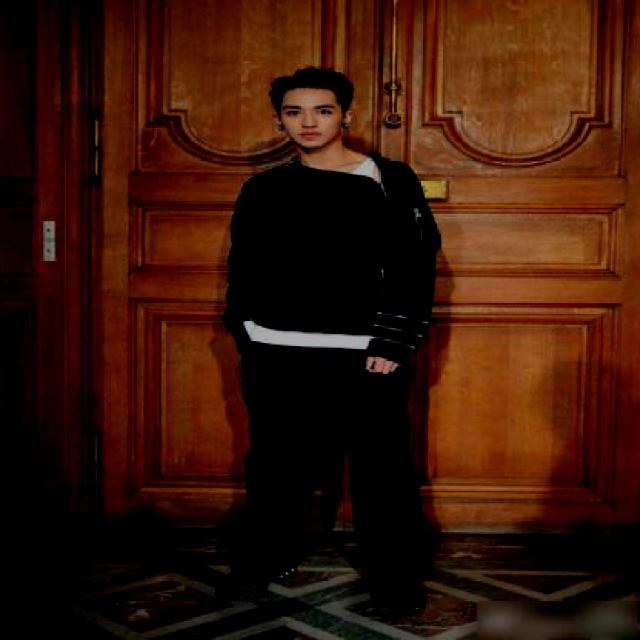Person: (185, 44, 457, 622)
